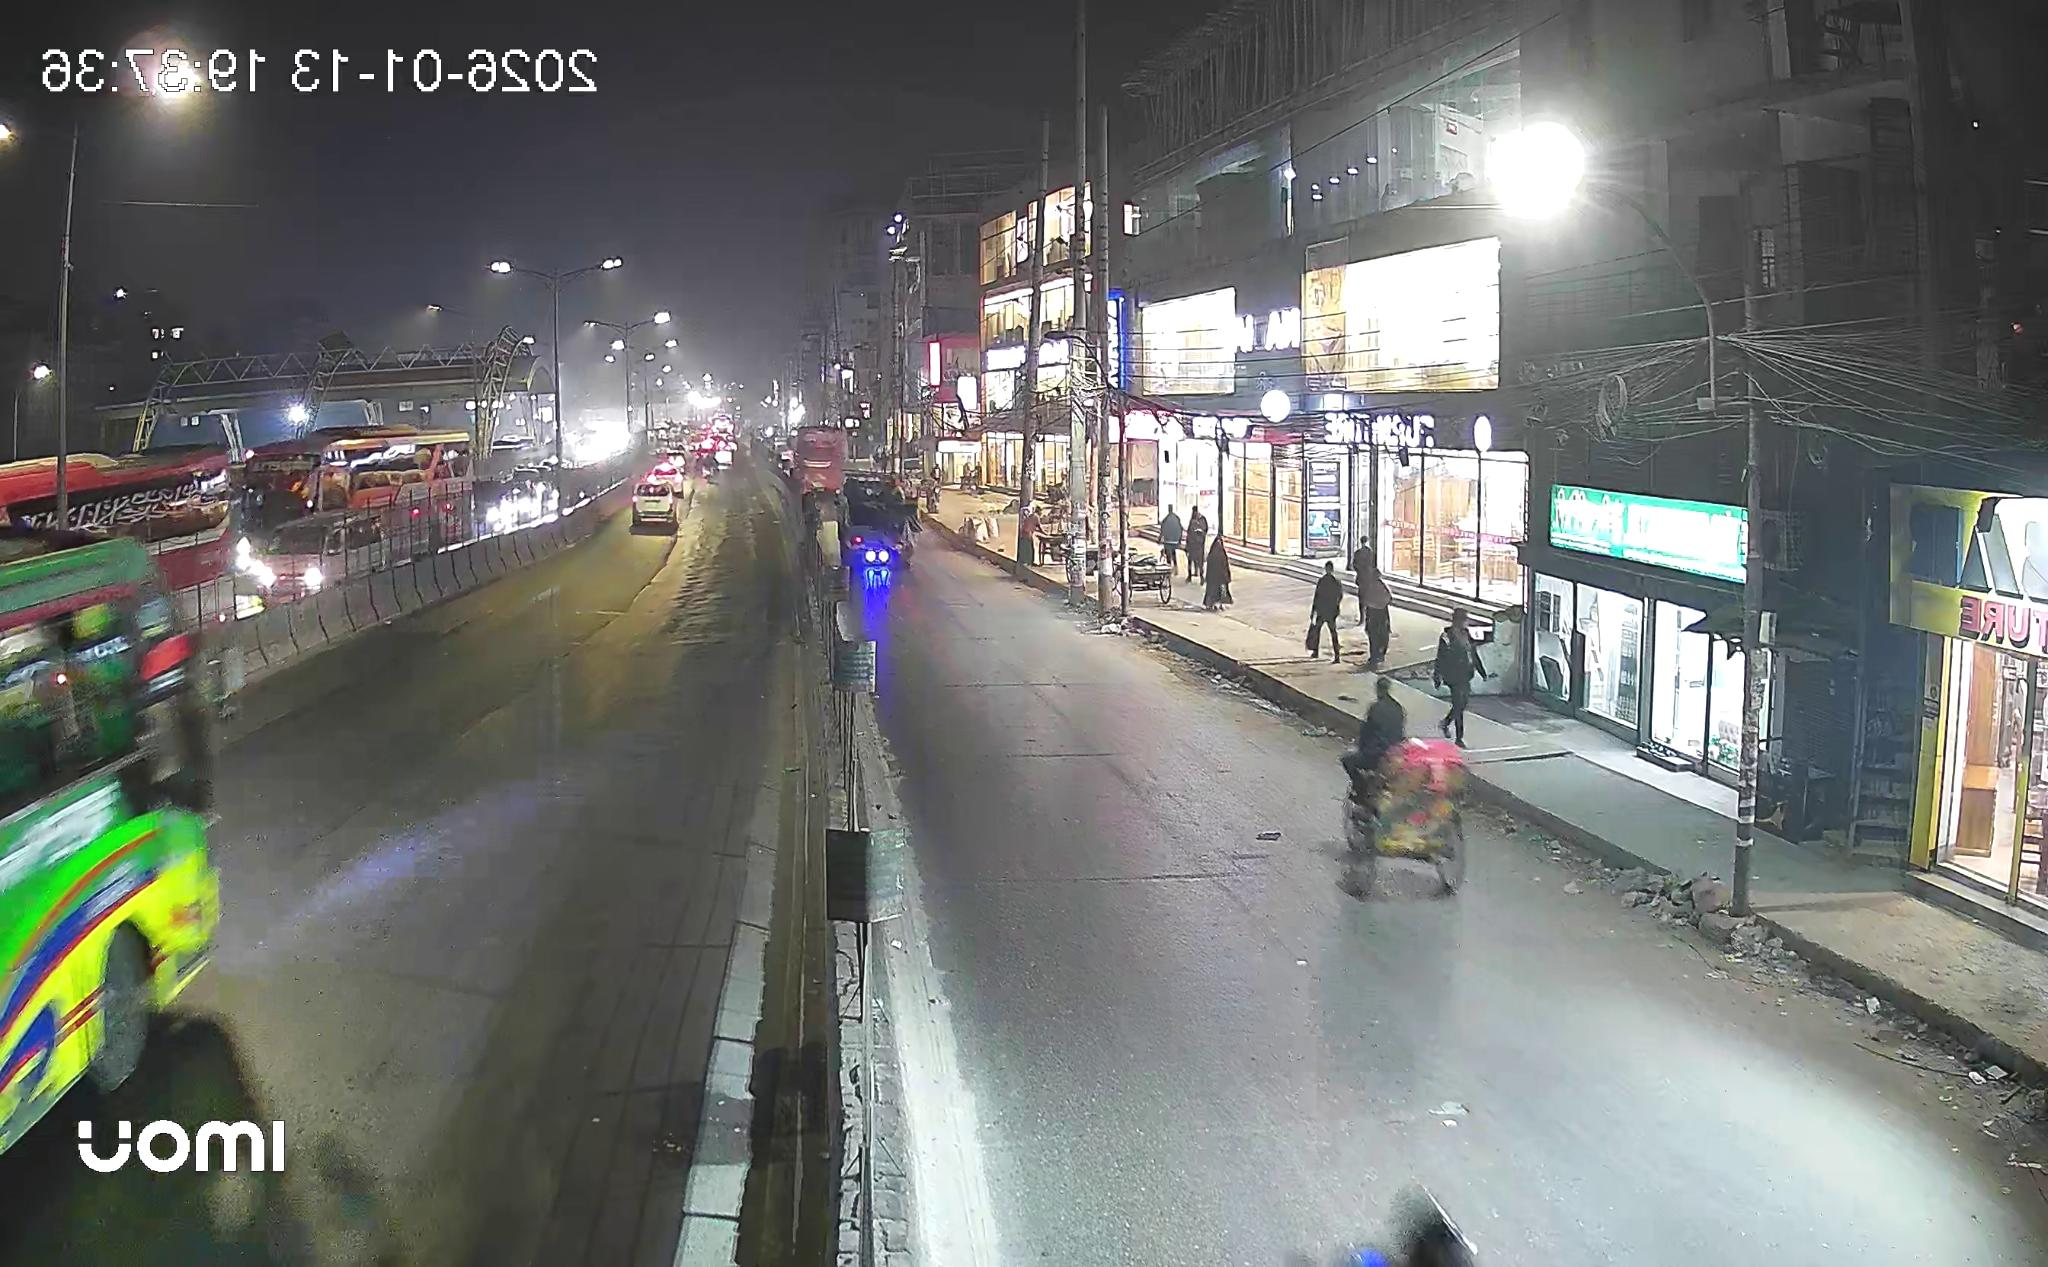Bus: (1, 528, 218, 1151), (64, 446, 236, 619), (241, 427, 473, 553), (1, 459, 57, 528)
Cycle Rickshaw: (1341, 677, 1464, 897)
